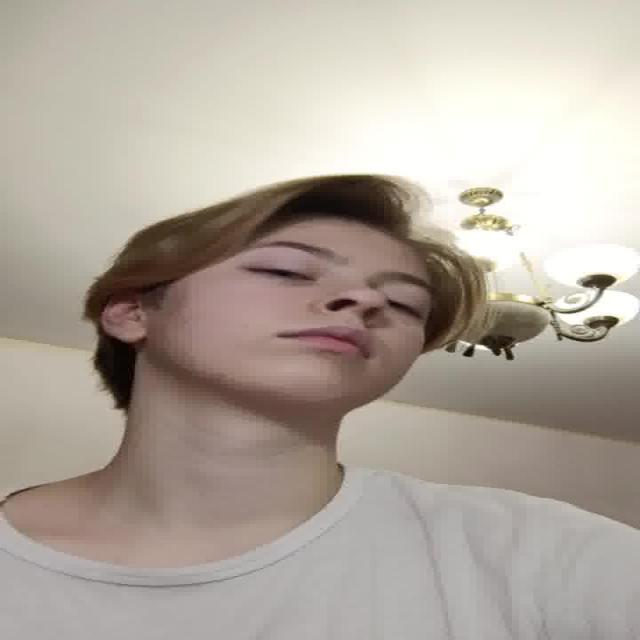earlobe: (107, 328, 150, 344)
eye: (242, 262, 320, 284), (386, 296, 428, 318)
nose: (312, 302, 373, 332)
wholeear: (98, 295, 150, 343)
